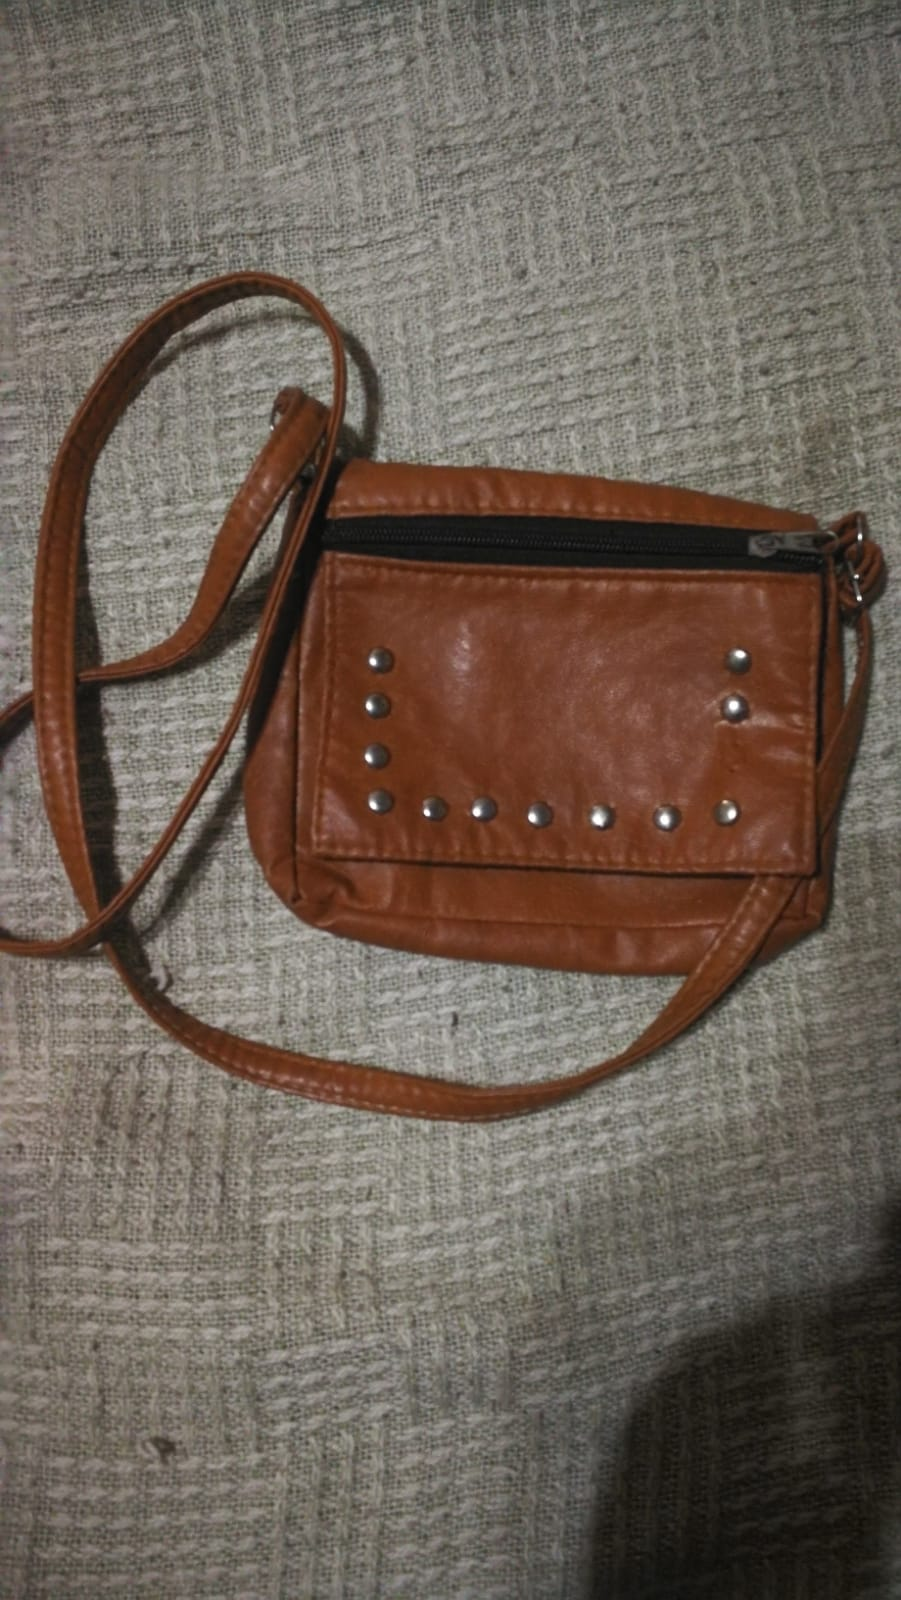cartera: (13, 293, 889, 1090)
cuero: (424, 613, 608, 770)
